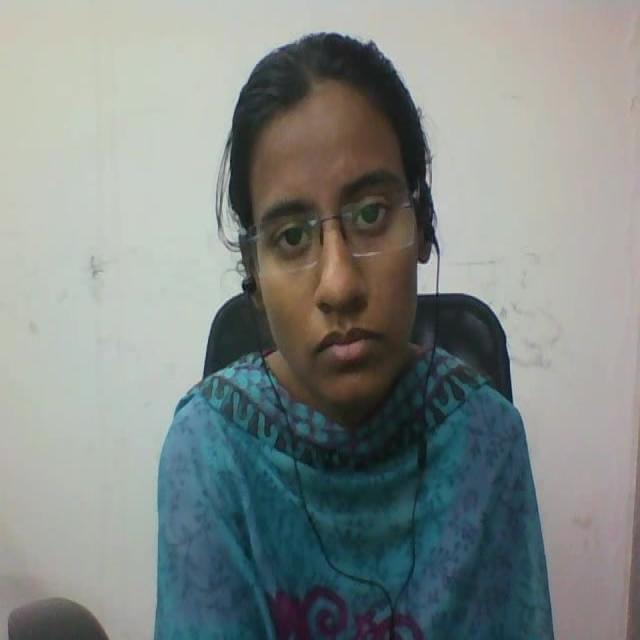Engaged: (210, 21, 458, 448)
